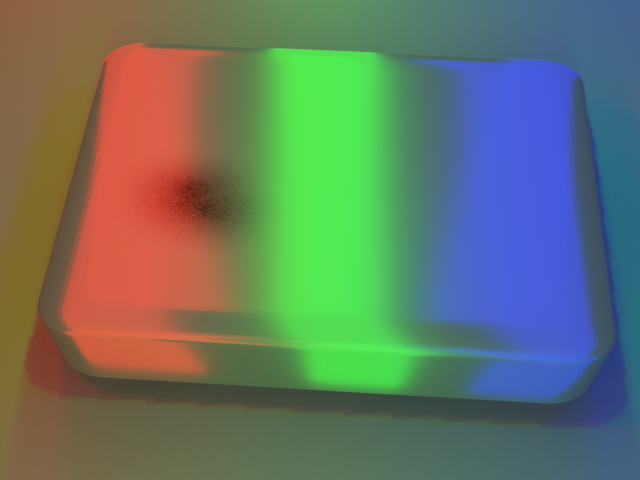stain: (66, 126, 305, 264)
